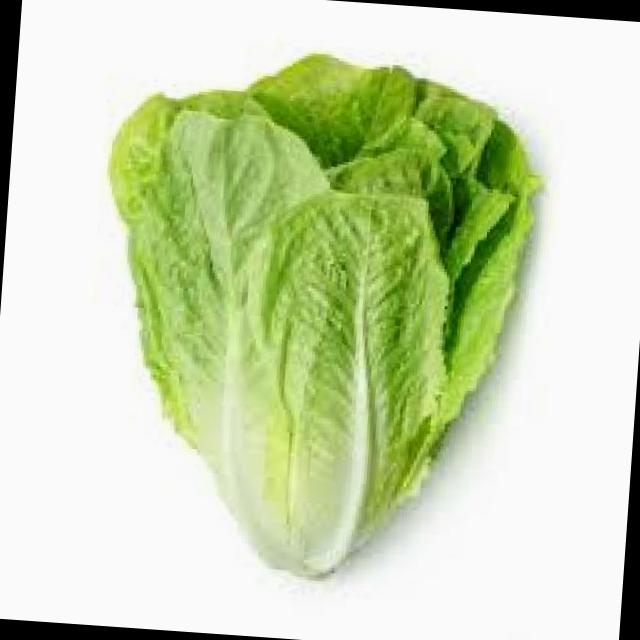Lettuce-Ready-to-Harvest: (110, 54, 539, 573)
